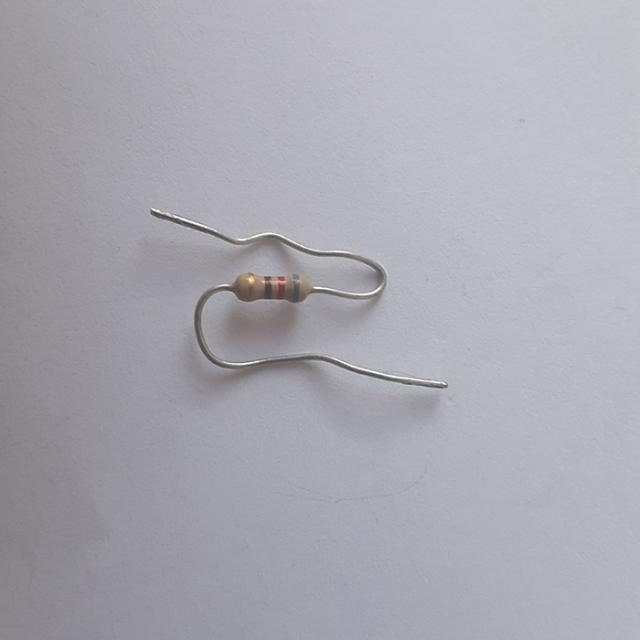brown: (264, 276, 270, 296)
gold: (247, 274, 253, 296)
grey: (293, 275, 299, 300)
red: (279, 276, 283, 296)
resistor: (226, 269, 316, 312)
